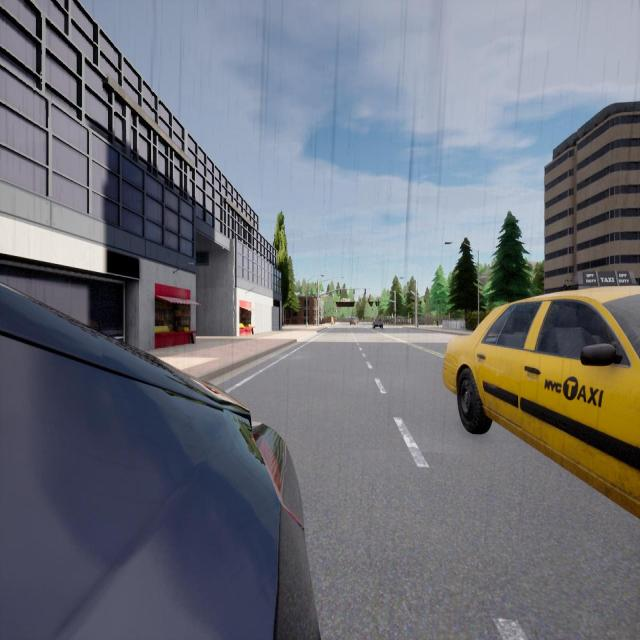Vehicle: (0, 285, 320, 640), (443, 286, 639, 517), (372, 318, 383, 329), (349, 317, 356, 326)
traffic_light: (359, 297, 361, 302), (364, 289, 366, 294), (394, 310, 396, 314), (414, 306, 415, 312), (340, 290, 341, 294), (378, 298, 379, 302), (368, 298, 369, 302), (404, 294, 405, 298), (354, 289, 354, 294), (410, 292, 410, 295)
